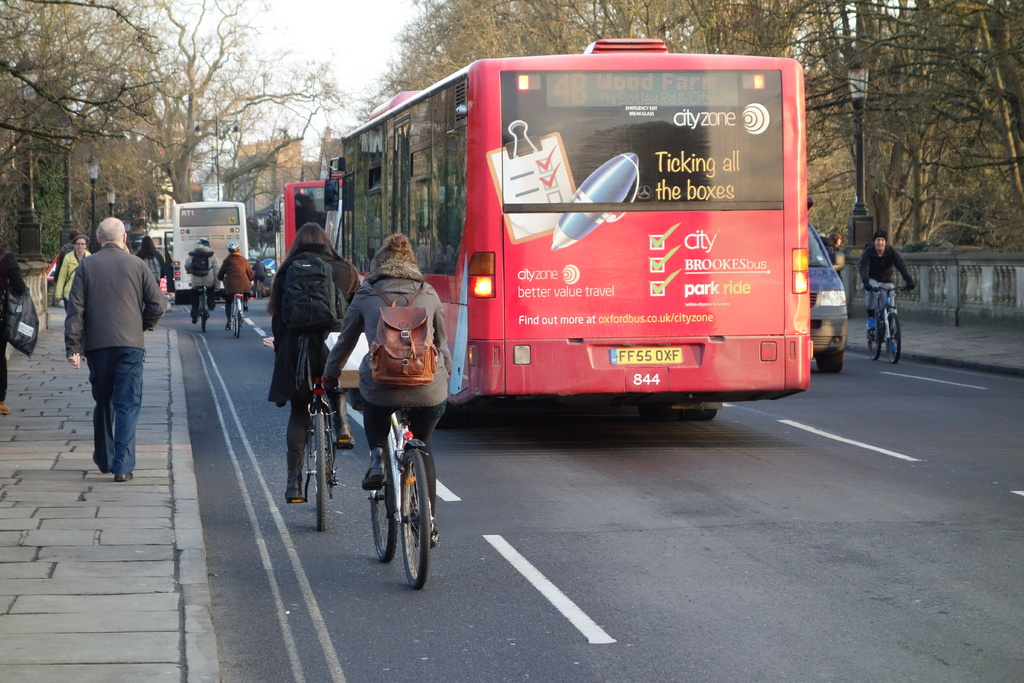Bike_away: (323, 376, 452, 594), (261, 335, 366, 534)
